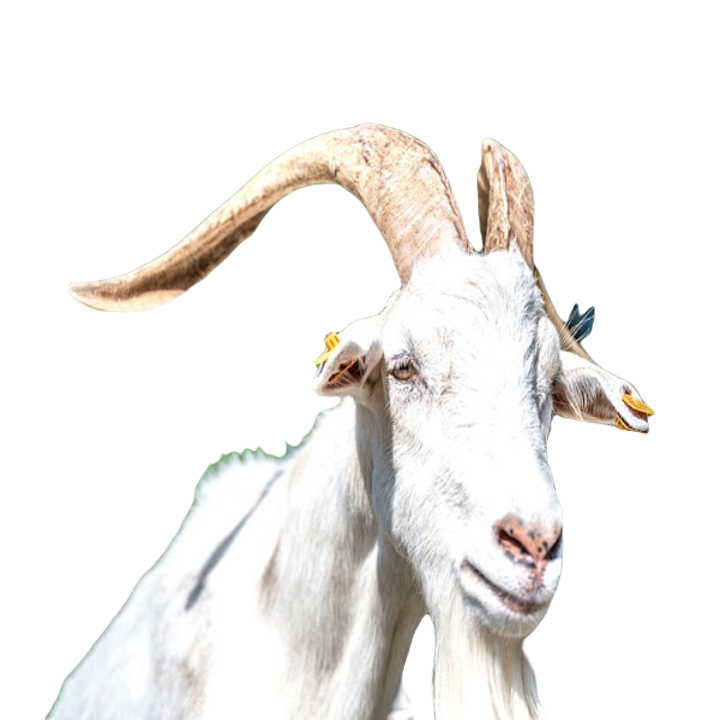Goat: (41, 125, 651, 719)
